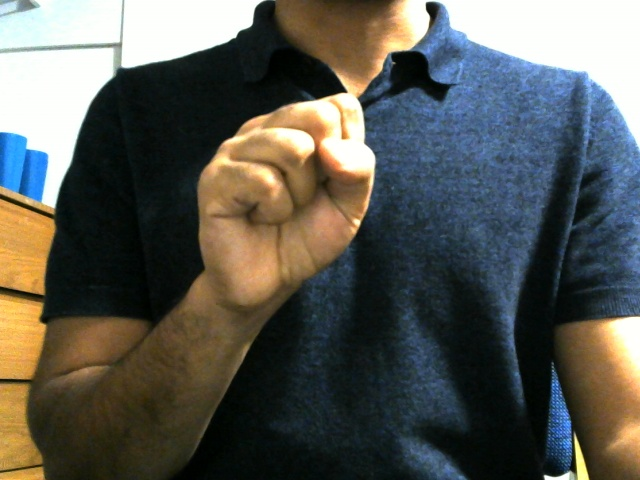S: (191, 99, 387, 306)
